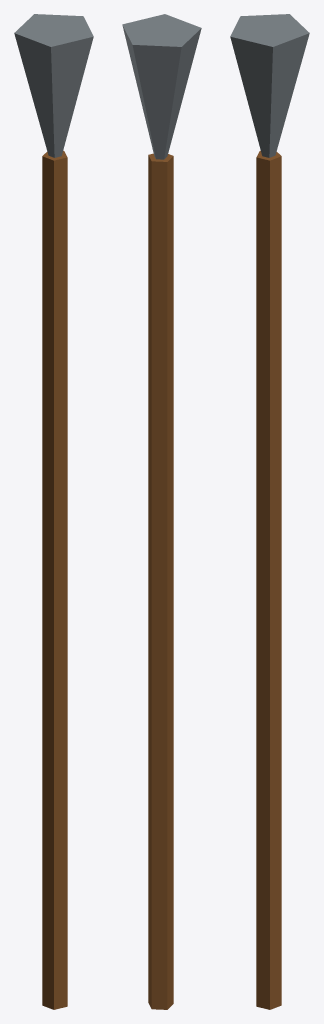
Rendered from pieza-villager-arrow-VNp1BRjC.glb.
3 views of the same model, side by side, from view 1: azimuth 30°, elevation 25°; view 2: azimuth 210°, elevation 25°; view 3: azimuth 330°, elevation 25° (orthographic).
Visible parts, largest first — view 1: prop_arrow; view 2: prop_arrow; view 3: prop_arrow.
Boxes of the visible parts, x1,y1,x2,y2 form: prop_arrow: (14,14,93,1009); prop_arrow: (122,14,201,1009); prop_arrow: (230,14,309,1009).
Bounding box in the file's own units: 0.4185 × 5.62 × 0.398.
